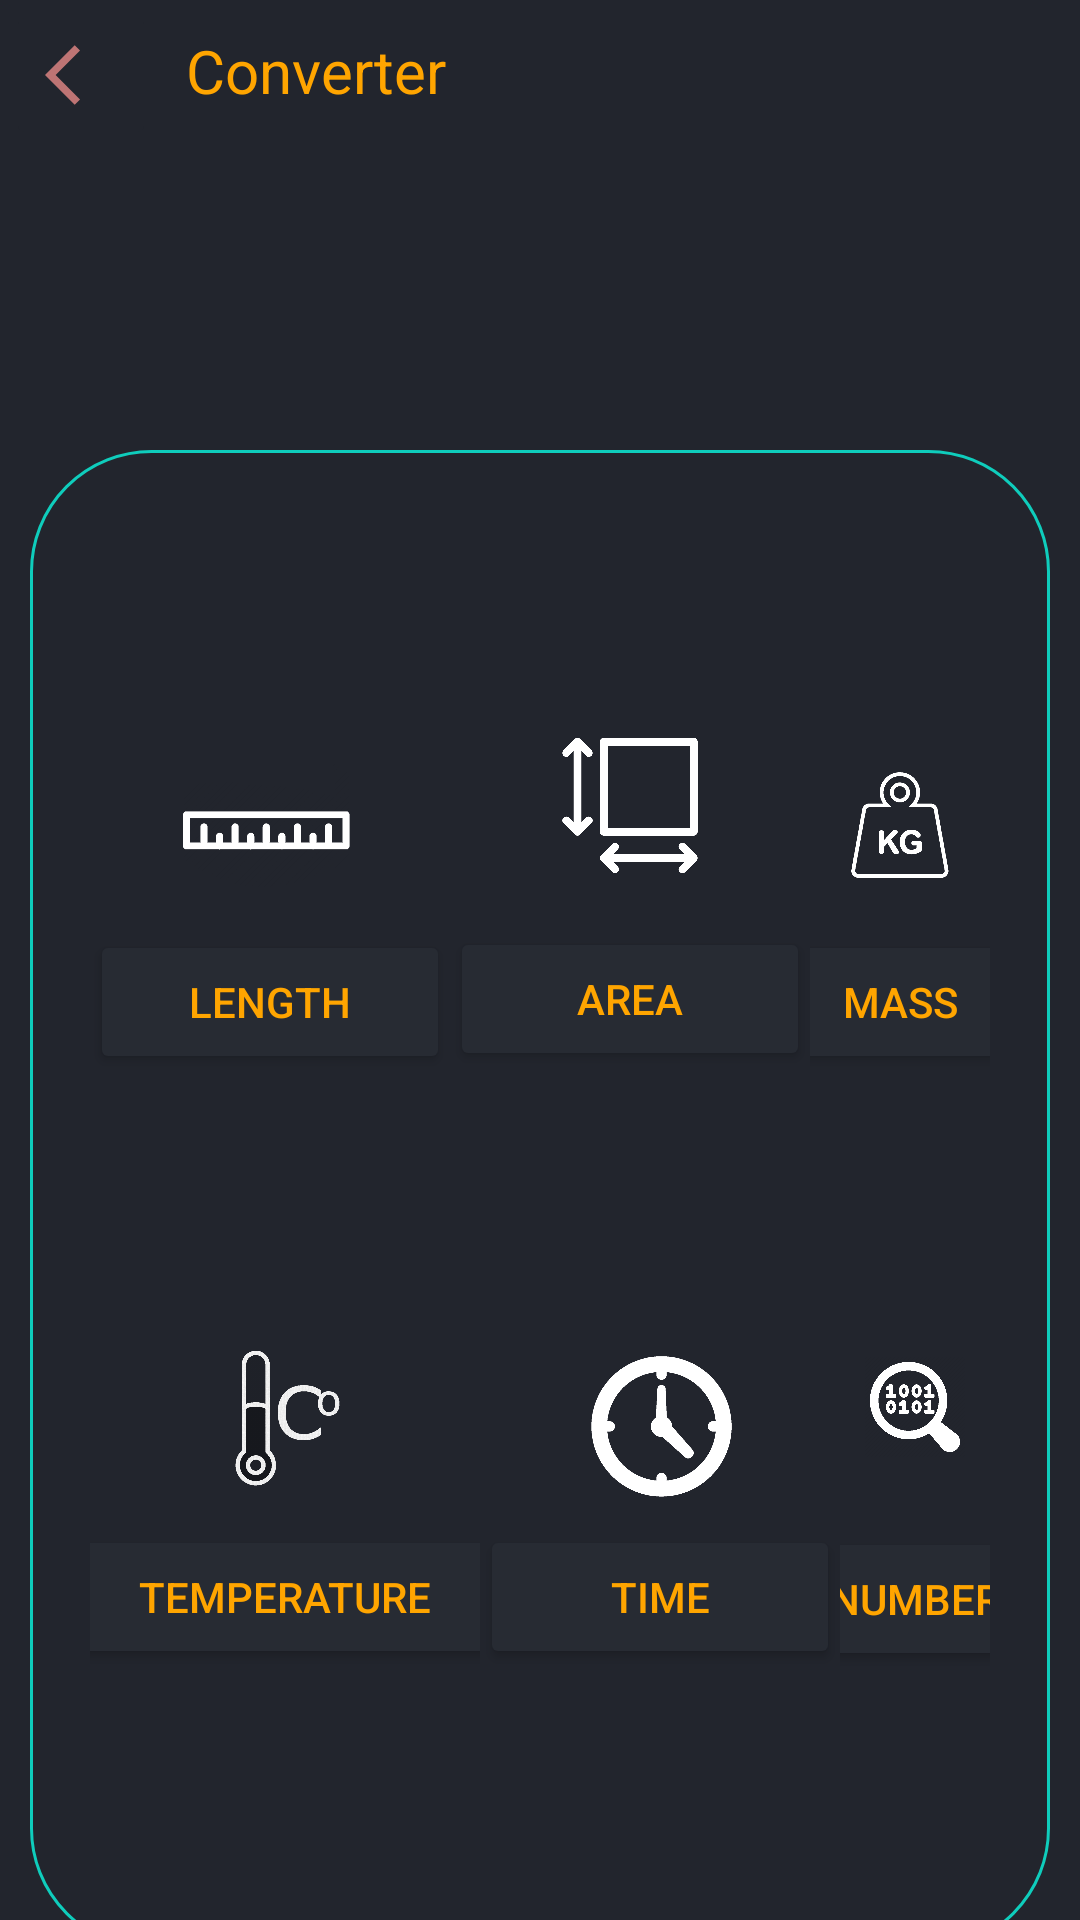

Icons on this 1080 × 1920 Android screen, each with the point to tap as (x,y):
arrow back: (62,75)
len: (266,830)
